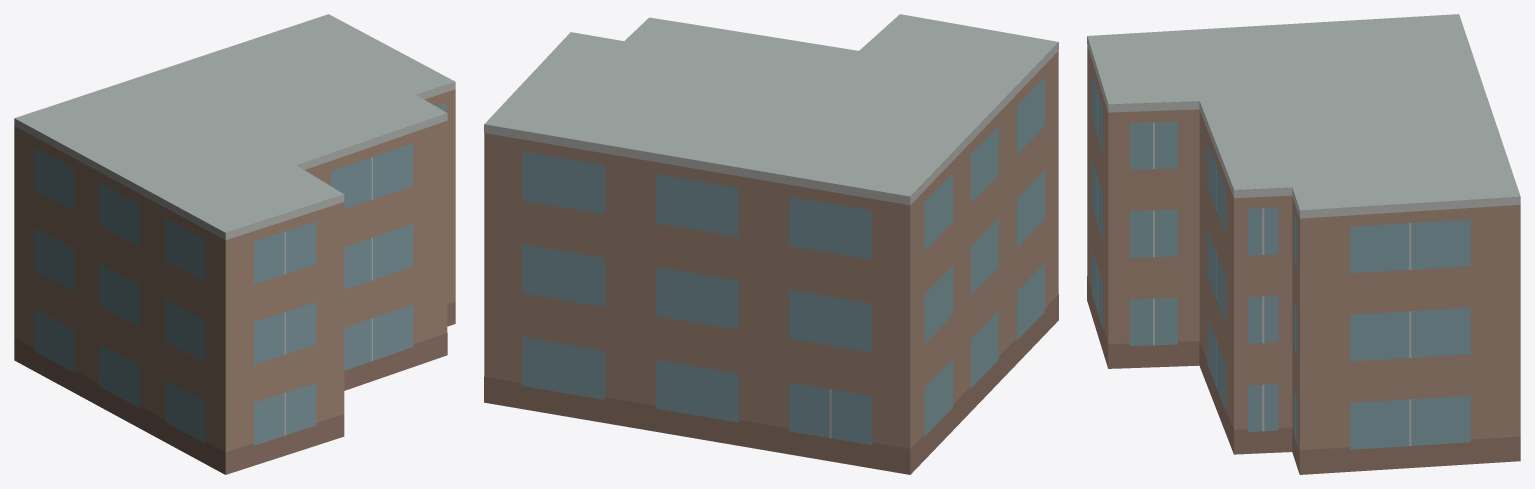
File: survey-upis-32524255.glb
3 views of the same model, side by side, from view 1: azimuth 30°, elevation 25°; view 2: azimuth 150°, elevation 25°; view 3: azimuth 270°, elevation 25° (orthographic). The views are drawn at different scales.
Parts seen in each view (by area): view 1: survey-upis-32524255.tmp; view 2: survey-upis-32524255.tmp; view 3: survey-upis-32524255.tmp.
Boxes of the visible parts, x1,y1,x2,y2 form: survey-upis-32524255.tmp: (14,14,455,474); survey-upis-32524255.tmp: (484,14,1058,474); survey-upis-32524255.tmp: (1087,14,1520,474).
Size of the model in its own units: 12.49 by 7.84 by 11.66.
